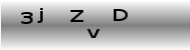3: (19, 11, 33, 24)
D: (112, 8, 127, 22)
Z: (69, 9, 85, 23)
j: (36, 7, 44, 23)
v: (85, 27, 100, 39)
